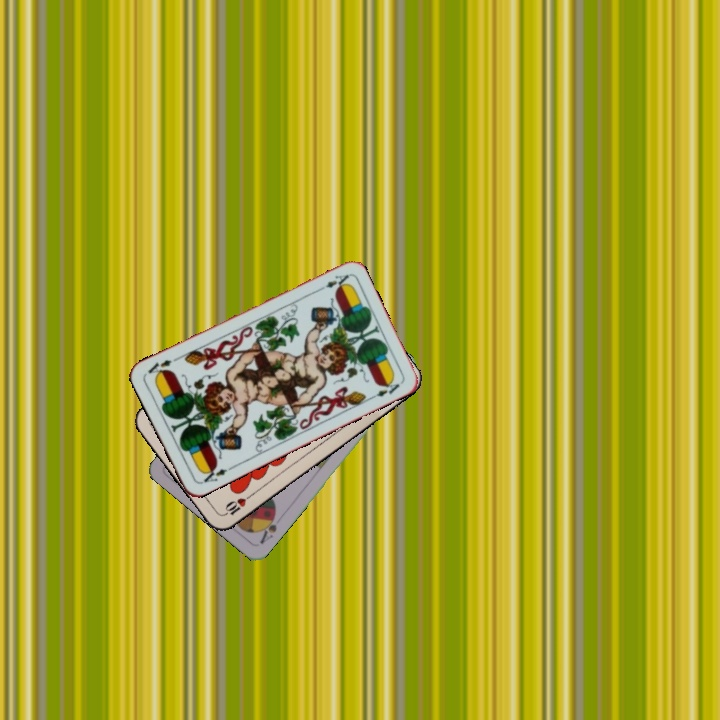EA: (197, 462, 235, 486), (313, 270, 351, 294)
H10: (220, 490, 256, 518)
SA: (256, 509, 279, 547)
